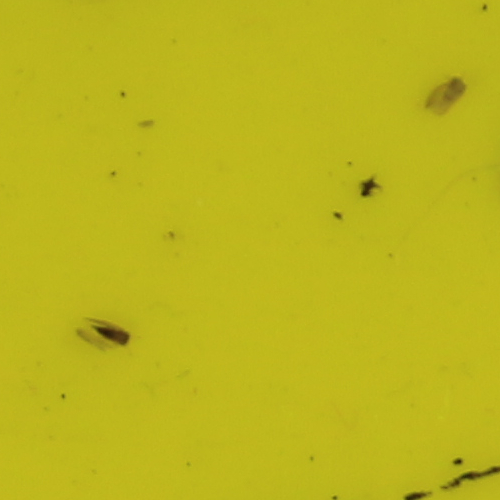Platyobria: (424, 77, 472, 114)
psylla: (96, 324, 132, 346)
